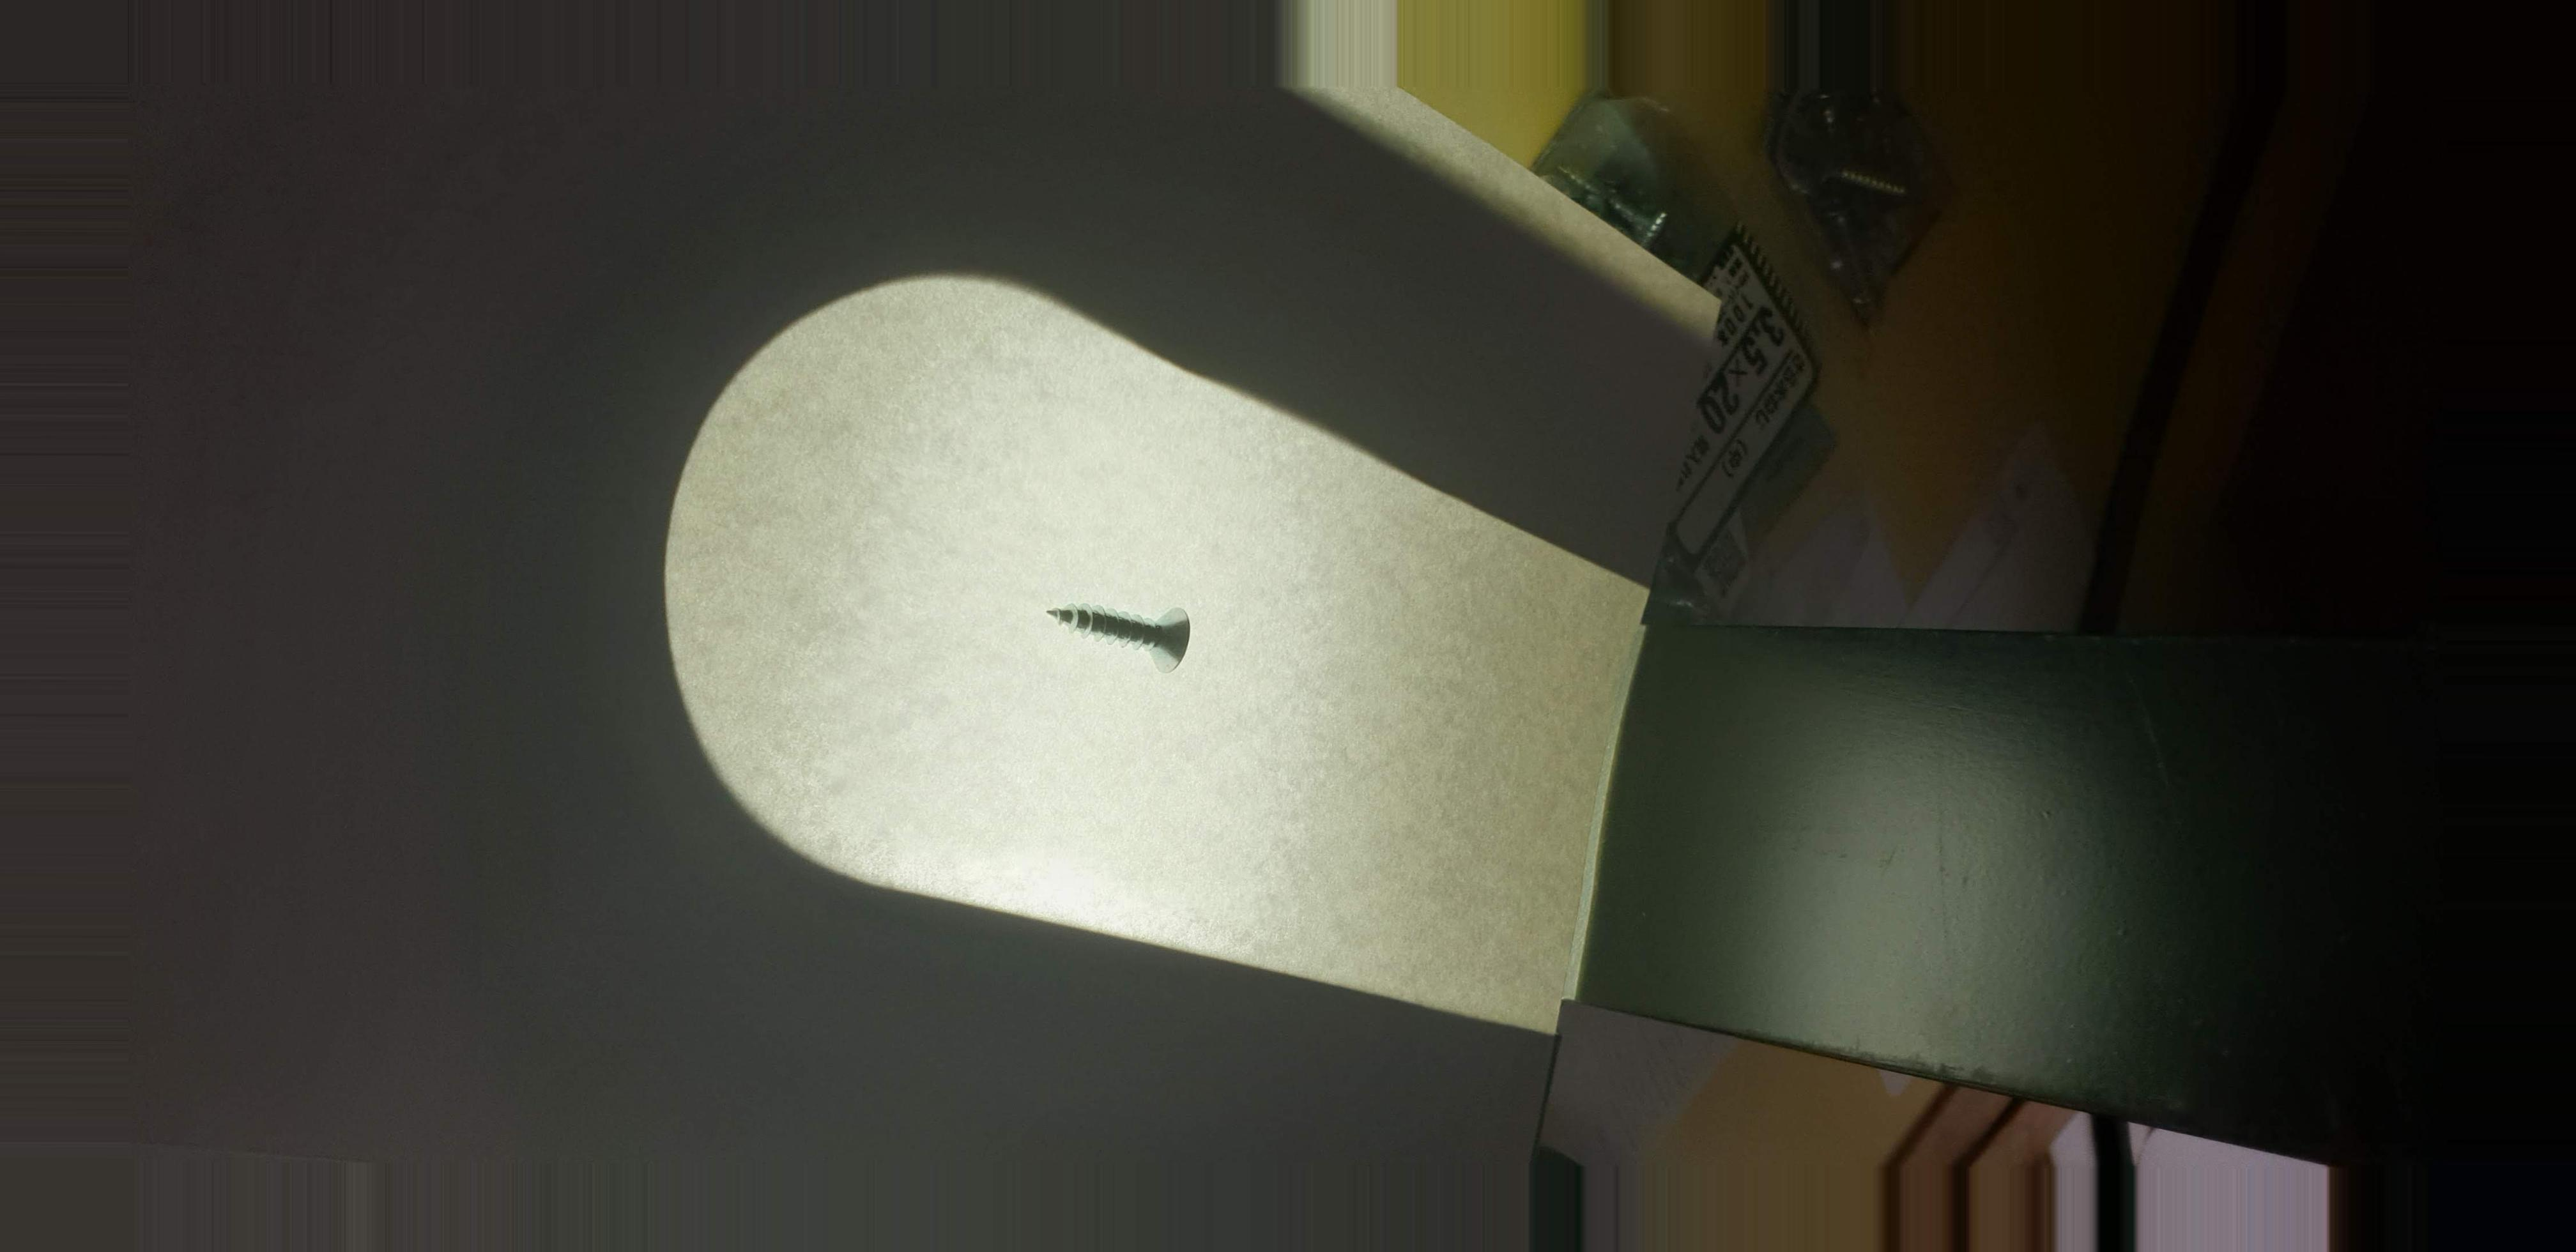S003: (1028, 588, 1214, 685)
